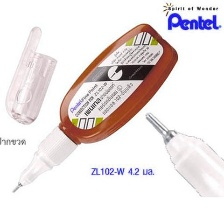correction_fluid: (8, 20, 180, 196)
